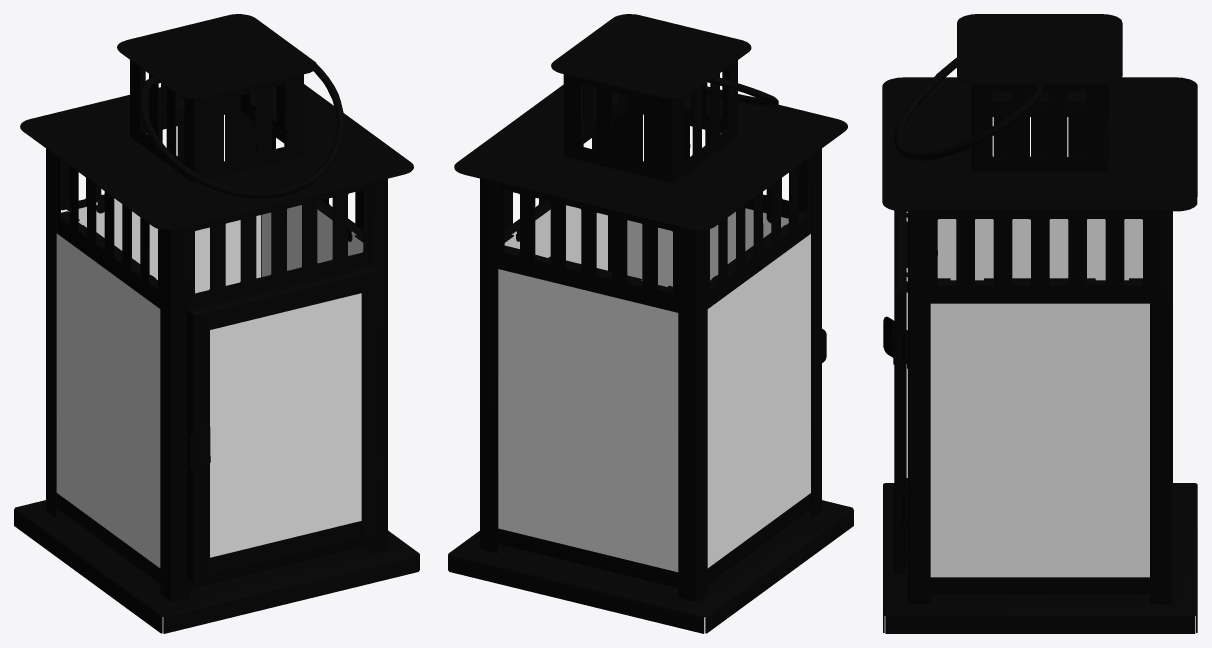
Rendered from borrby_lampion_10156109.glb.
The picture shows the model from 3 angles, left to right: view 1: azimuth 30°, elevation 25°; view 2: azimuth 150°, elevation 25°; view 3: azimuth 270°, elevation 25°; orthographic projection. The views are drawn at different scales.
Parts seen in each view (by area): view 1: borrby_lampion_10156109; view 2: borrby_lampion_10156109; view 3: borrby_lampion_10156109.
Boxes of the visible parts, <box> form: borrby_lampion_10156109: <box>14,14,419,633</box>; borrby_lampion_10156109: <box>448,14,853,633</box>; borrby_lampion_10156109: <box>882,14,1197,633</box>.
Bounding box in the file's own units: 0.152 × 0.2763 × 0.1523.
Materials: 2 (2 with a texture image).
